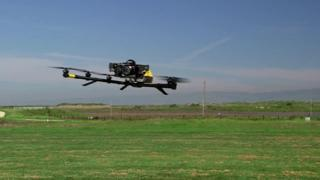UAV: (259, 169, 320, 180)
